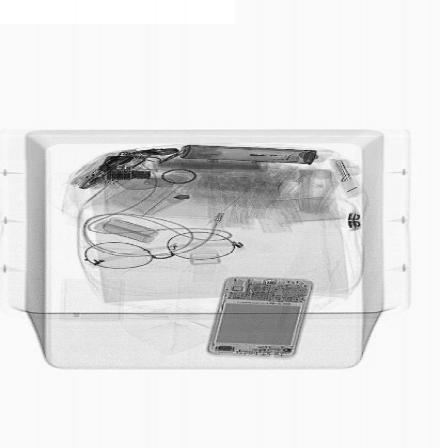Lighter: (206, 152, 302, 163)
